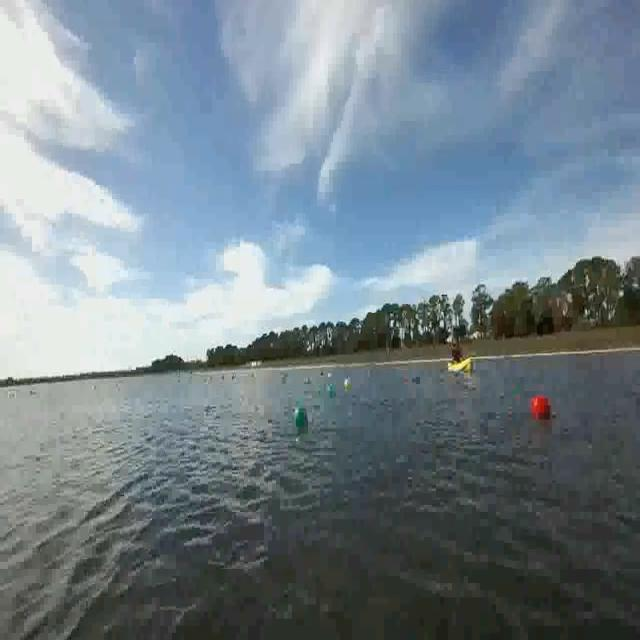blue-buoy: (326, 381, 336, 400)
green-buoy: (294, 407, 306, 428)
red-buoy: (534, 396, 552, 419)
yellow-buoy: (344, 378, 352, 391)
